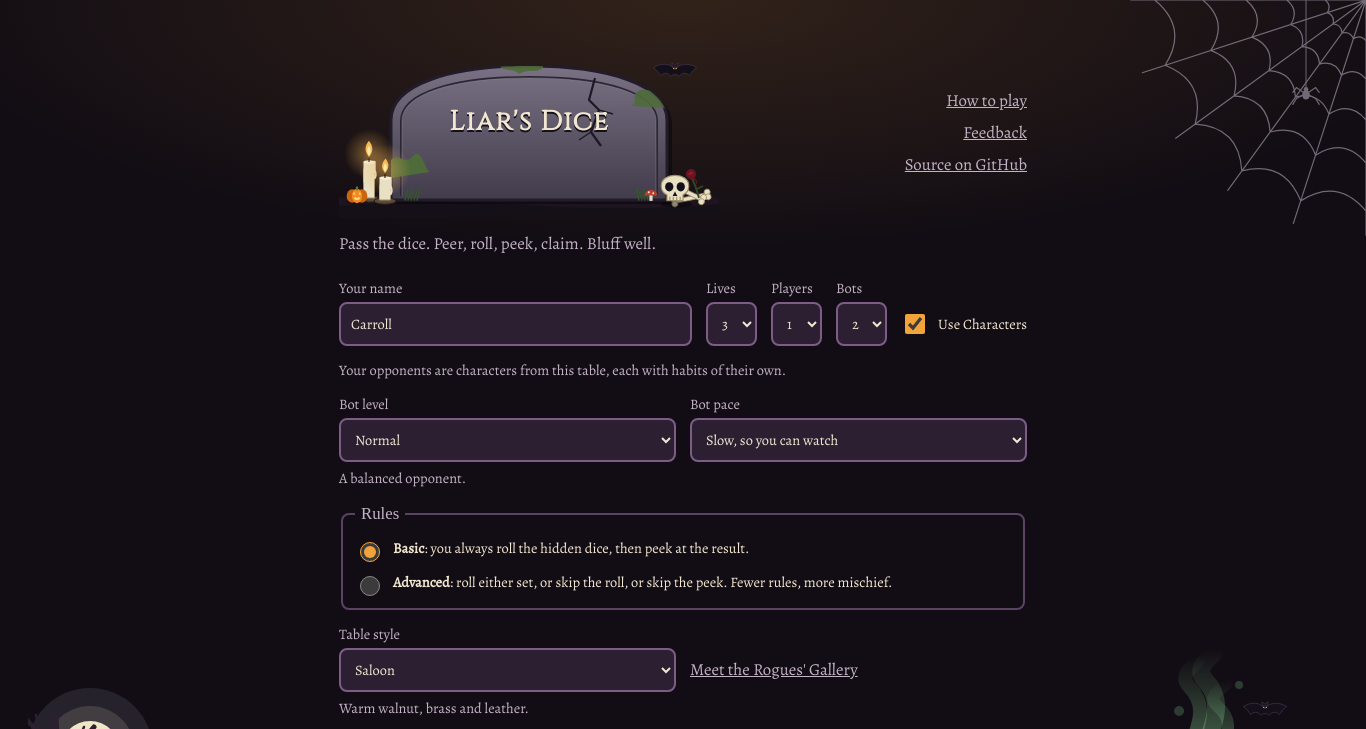
Test: Setup players › asks for a name for every other player, and a bot is optional once two people play
Select "3" in the dropdown labelled "Players" at (796, 324), box left=771, top=302, right=822, bottom=346
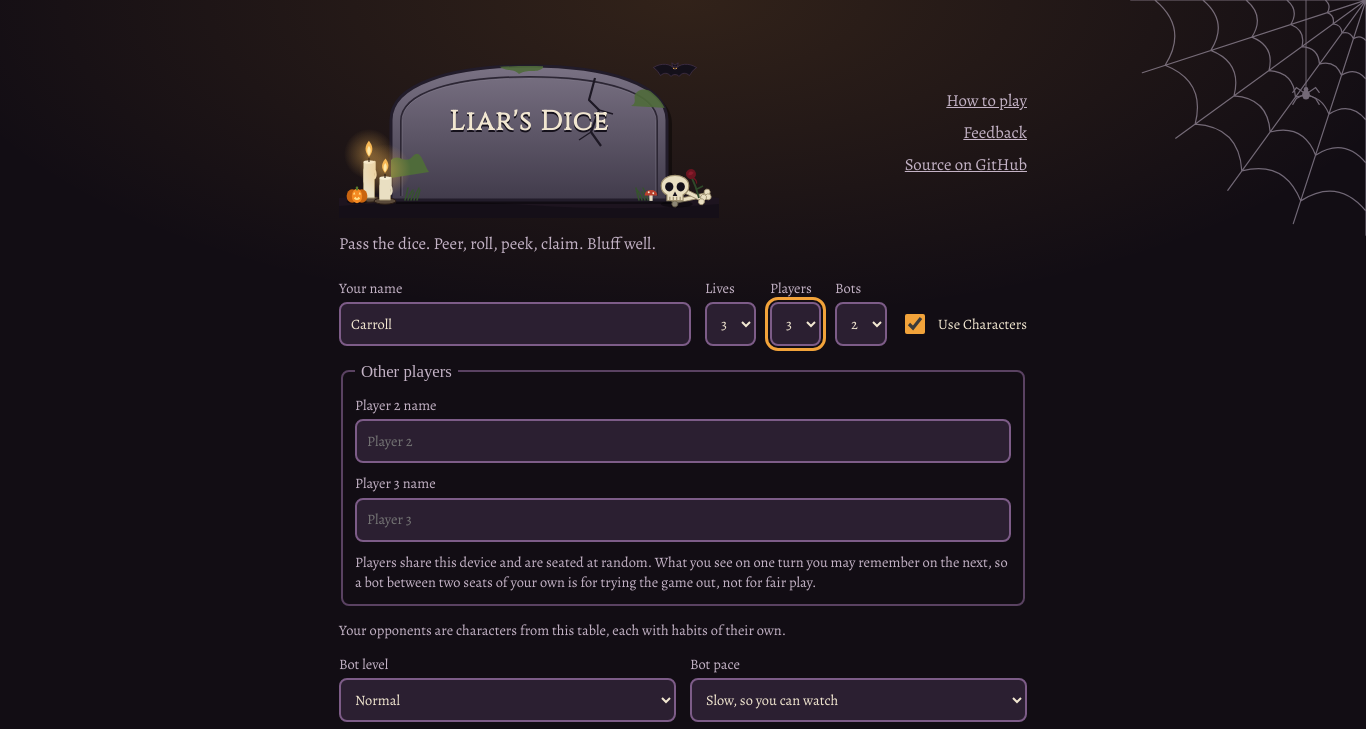
Expected: the field labelled "Player 2 name" is shown, left=355, top=419, right=1011, bottom=463
Expected: the field labelled "Player 3 name" is shown, left=355, top=498, right=1011, bottom=542
Expected: the text "seated at random" is shown, left=355, top=552, right=1008, bottom=592
